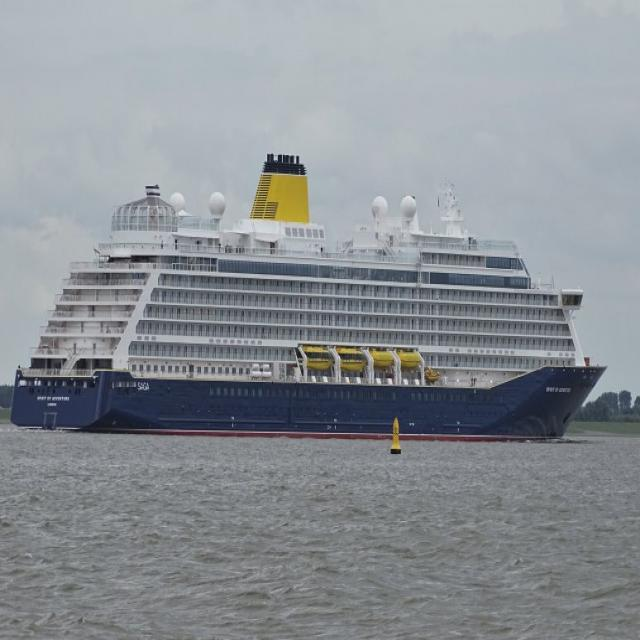cruises: (12, 143, 613, 438)
